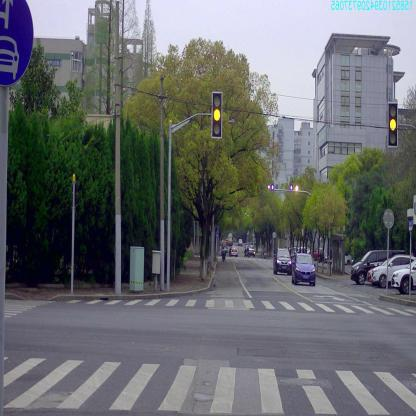traffic-light: (212, 93, 222, 137), (388, 104, 398, 146)
